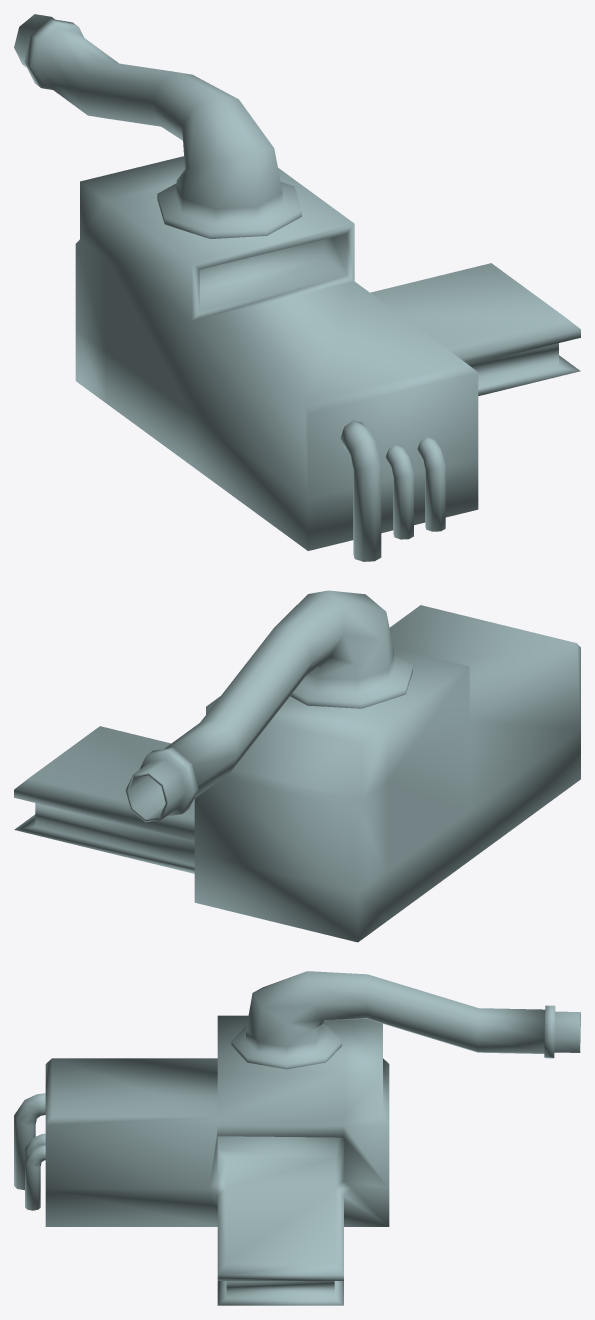
Rendered from o2_generator.fbx.
3 views of the same model, one above another, from view 1: azimuth 30°, elevation 25°; view 2: azimuth 150°, elevation 25°; view 3: azimuth 270°, elevation 25° (orthographic). The views are drawn at different scales.
Visible parts, largest first — view 1: Cube.022; view 2: Cube.022; view 3: Cube.022.
Part boxes in pixels (x1,y1,x2,y2): Cube.022: (14, 14, 580, 561); Cube.022: (14, 590, 580, 942); Cube.022: (14, 971, 580, 1305).
Size of the model in its own units: 457 by 349 by 781.
